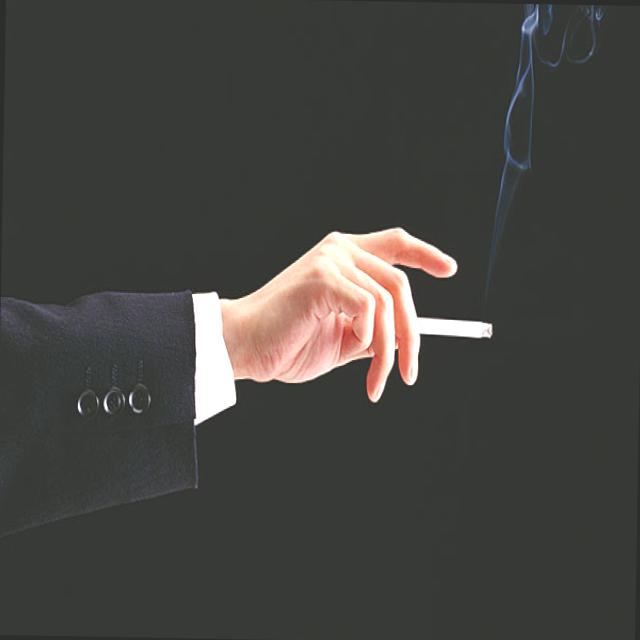smoke: (362, 294, 498, 355)
